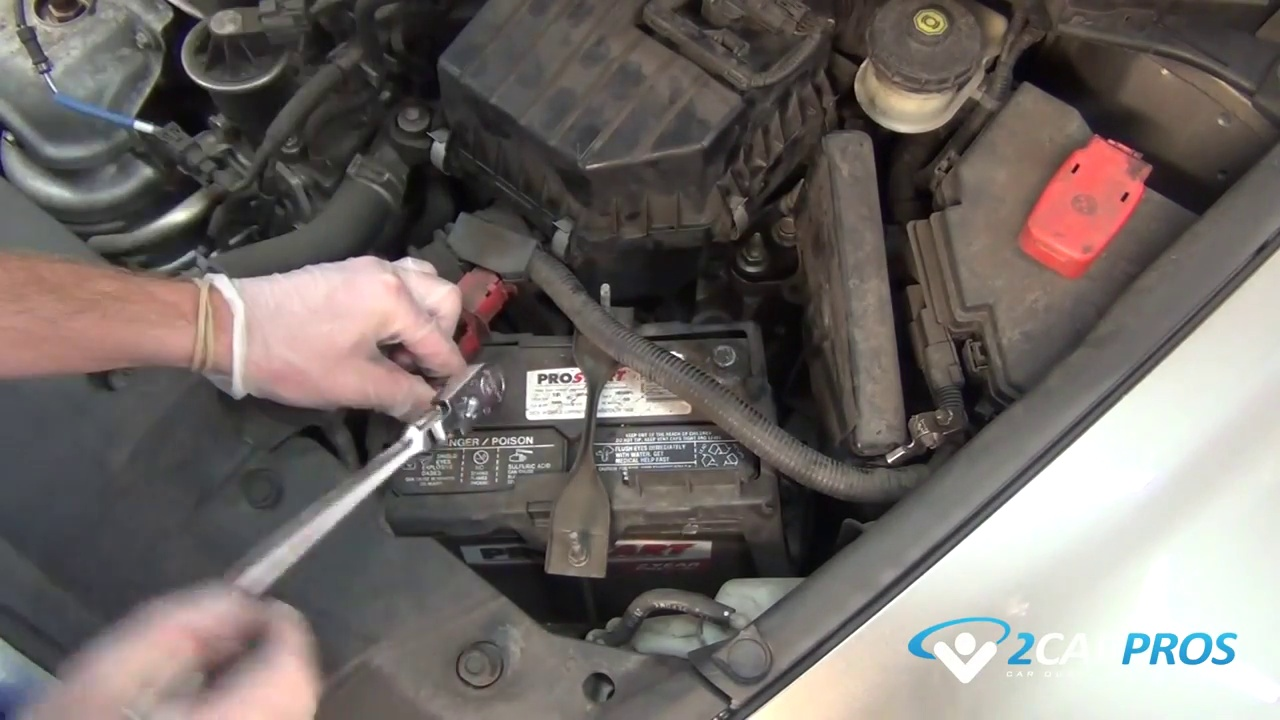battery: (354, 307, 773, 513)
neg_disconnected: (681, 319, 778, 404)
pos_touched: (356, 237, 506, 413)
